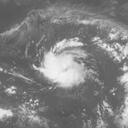cyclone: (40, 40, 93, 89)
